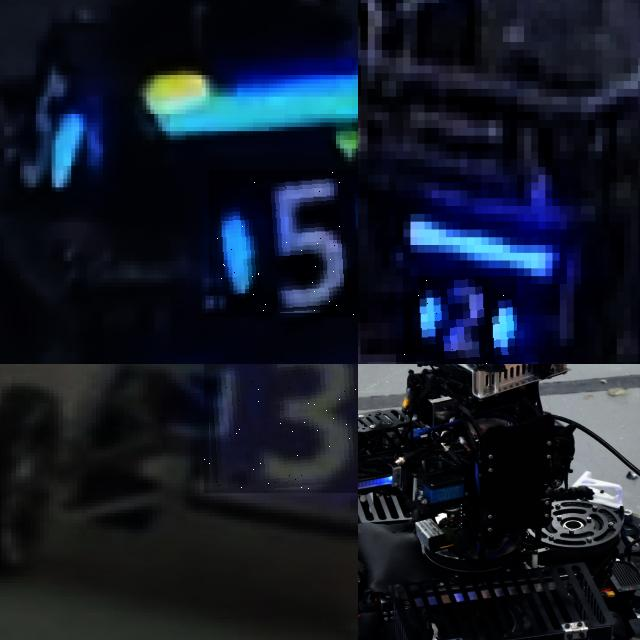B2: (403, 276, 517, 364)
B3: (204, 364, 358, 493)
B5: (209, 170, 358, 317)
